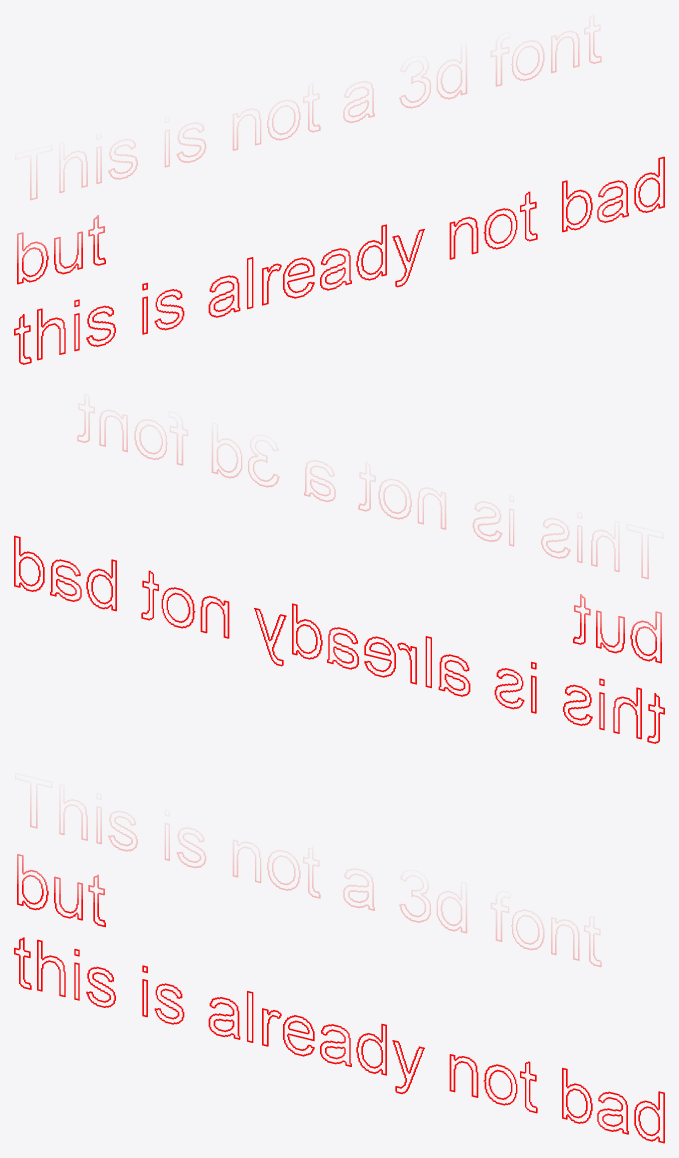
File: NotBadFont.glb
3 views of the same model, one above another, from view 1: azimuth 30°, elevation 25°; view 2: azimuth 150°, elevation 25°; view 3: azimuth 330°, elevation 25° (orthographic).
Size of the model in its own units: 648 by 217 by 1.
